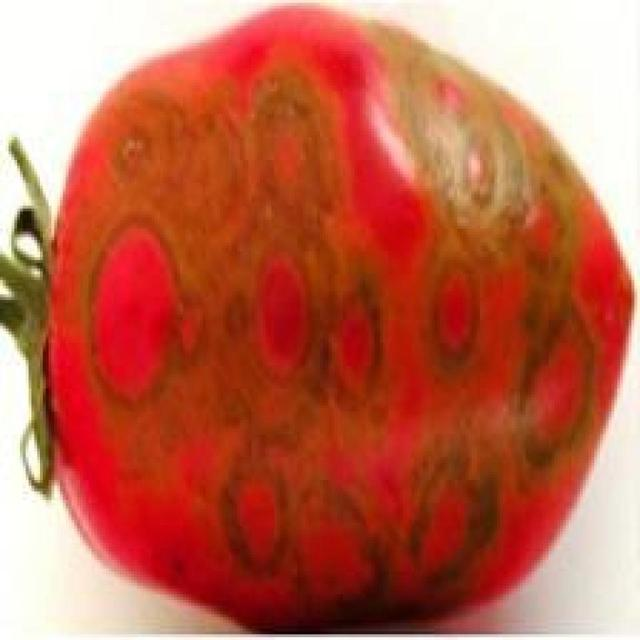Spotted wilt Virus Fruit: (28, 2, 425, 422)
